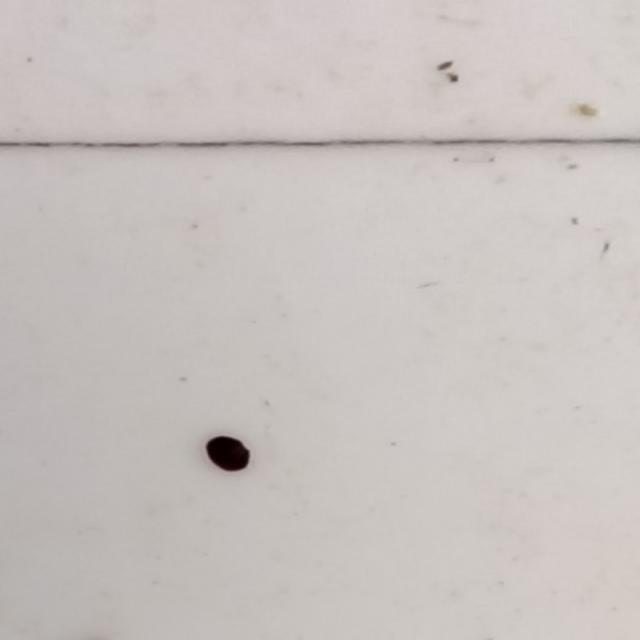varroa: (203, 436, 254, 476)
